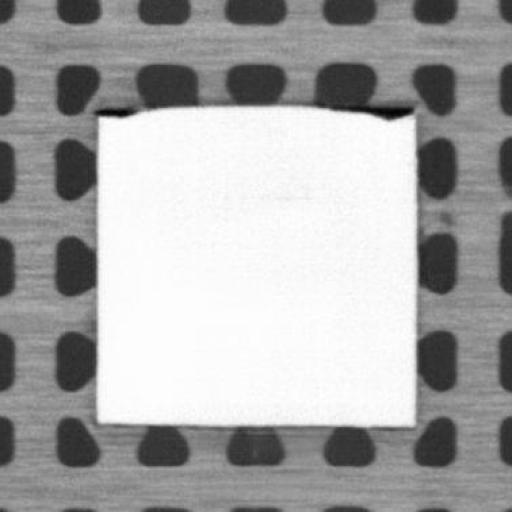DIE_BROKEN: (327, 103, 413, 119), (92, 102, 136, 118)
